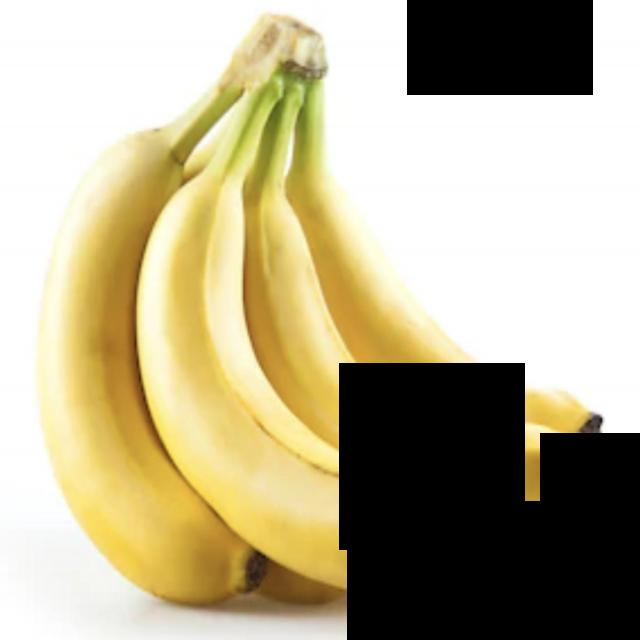banana: (113, 16, 502, 616), (36, 70, 263, 630)
